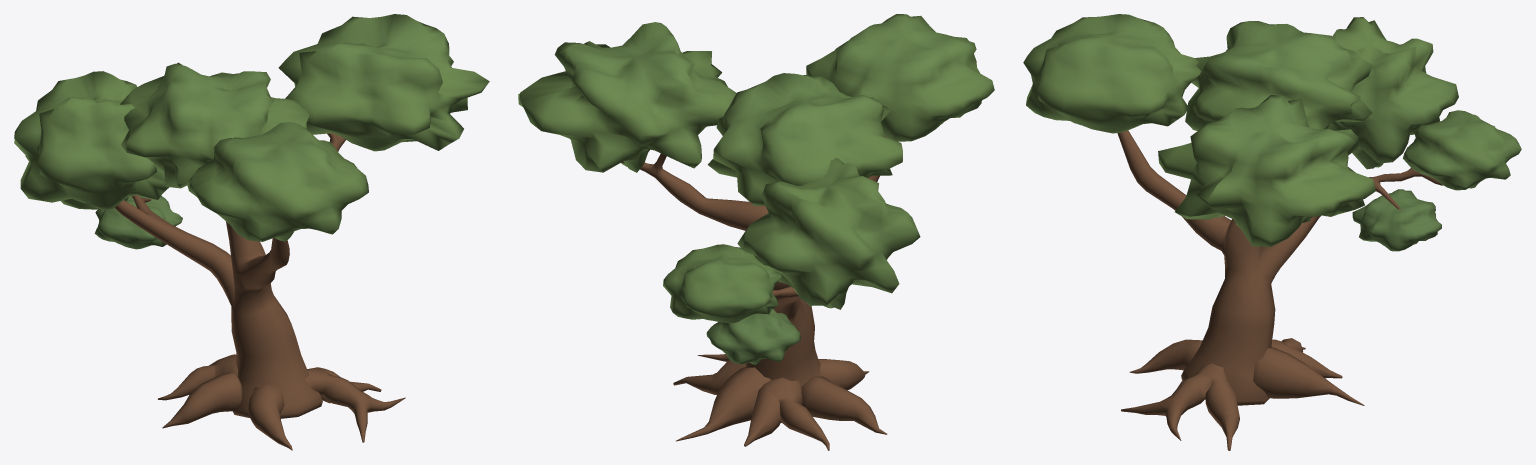
File: tree4_3.fbx
The picture shows the model from 3 angles, left to right: view 1: azimuth 30°, elevation 25°; view 2: azimuth 150°, elevation 25°; view 3: azimuth 270°, elevation 25°; orthographic projection. The views are drawn at different scales.
Visible parts, largest first — view 1: BezierCurve.014; view 2: BezierCurve.014; view 3: BezierCurve.014.
Part boxes in pixels (x1,y1,x2,y2): BezierCurve.014: (14,14,489,450); BezierCurve.014: (518,14,994,450); BezierCurve.014: (1023,14,1521,450).
Size of the model in its own units: 3.88 by 3.16 by 4.16.
